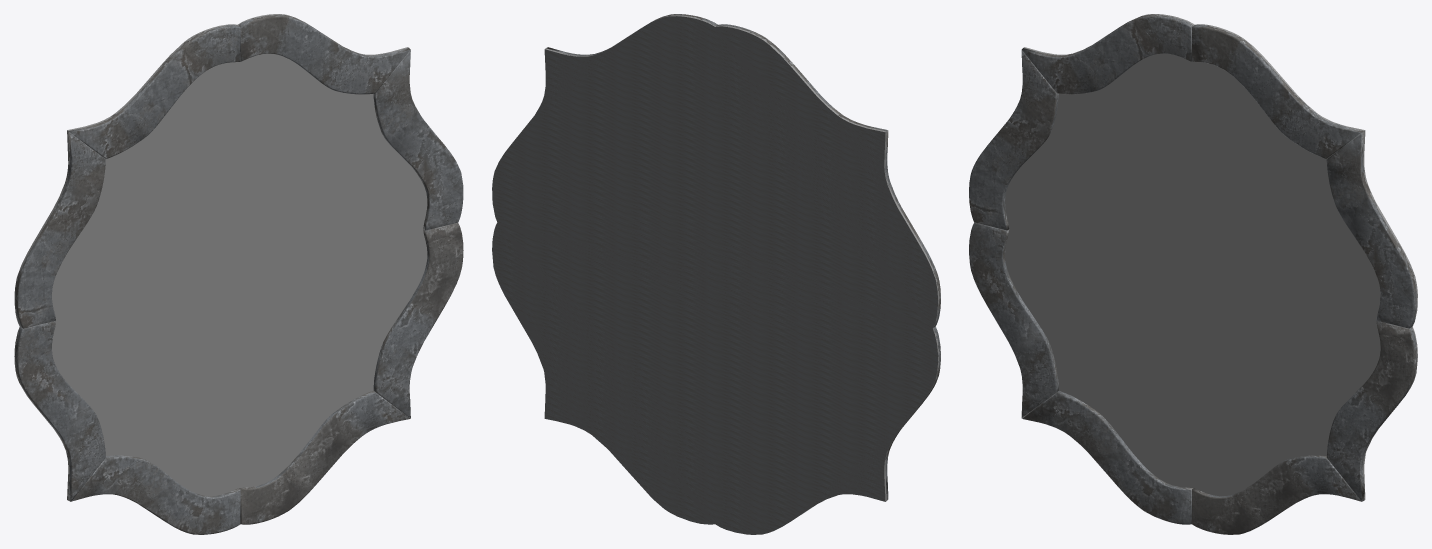
Rendered from Mirror 11.FBX.
The picture shows the model from 3 angles, left to right: view 1: azimuth 30°, elevation 25°; view 2: azimuth 150°, elevation 25°; view 3: azimuth 330°, elevation 25°; orthographic projection.
Parts seen in each view (by area): view 1: Mirror 11; view 2: Mirror 11; view 3: Mirror 11.
Boxes of the visible parts, x1,y1,x2,y2 form: Mirror 11: (14, 14, 463, 534); Mirror 11: (492, 14, 940, 534); Mirror 11: (969, 14, 1417, 534).
Bounding box in the file's own units: 60.98 × 65.85 × 0.8337.
Materials: 2 (1 with a texture image).
